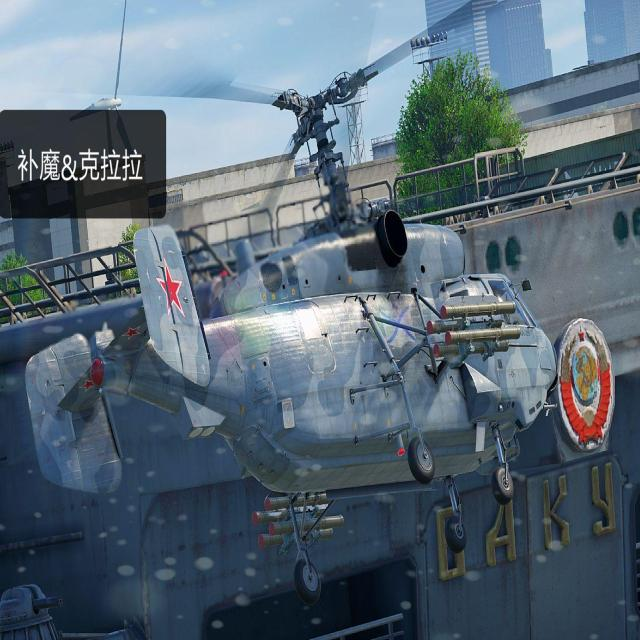MIL_HELO: (32, 0, 584, 551)
